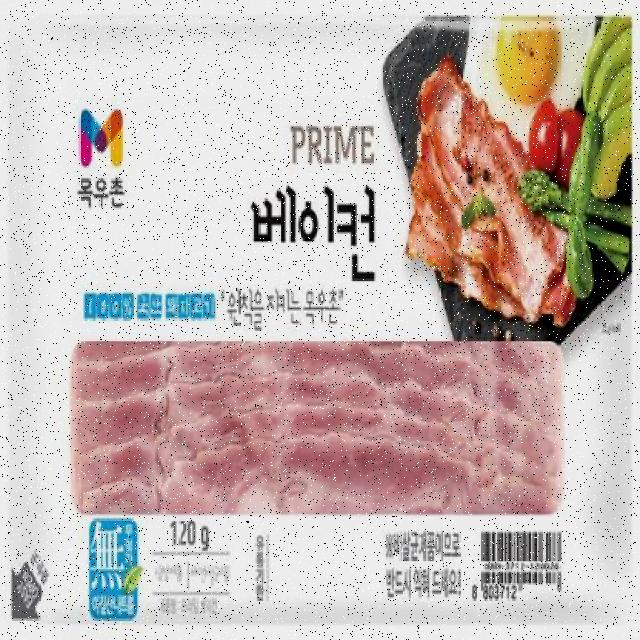Bacon: (17, 14, 629, 631)
